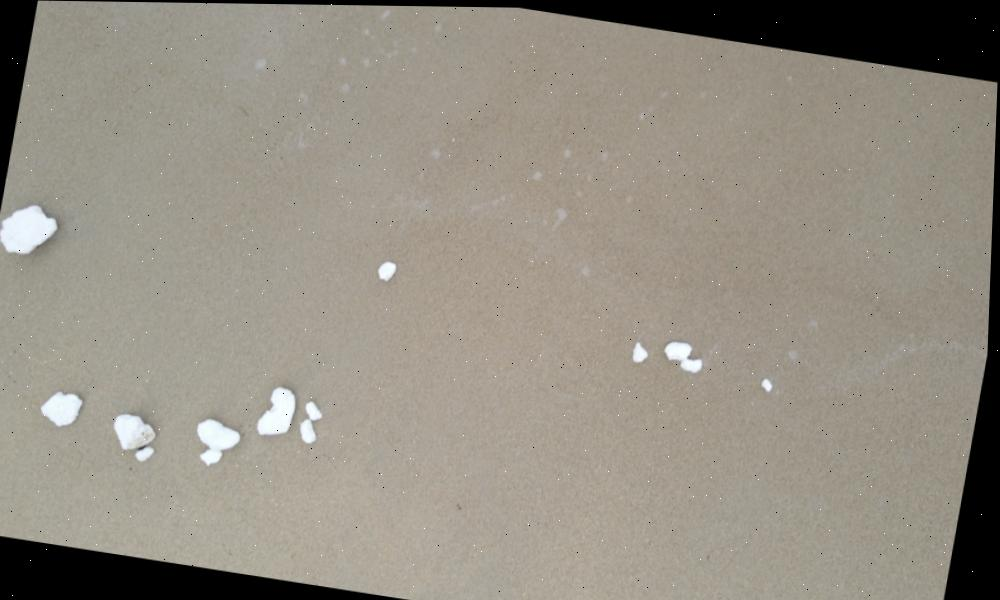styrofoam: (0, 199, 61, 260), (257, 380, 301, 440), (106, 407, 161, 453), (40, 387, 90, 429), (195, 415, 248, 453), (663, 335, 696, 360), (300, 417, 323, 445), (200, 447, 224, 470), (377, 257, 399, 282), (630, 339, 652, 362), (681, 353, 704, 373), (304, 399, 327, 418), (138, 445, 159, 465), (762, 376, 775, 388)
